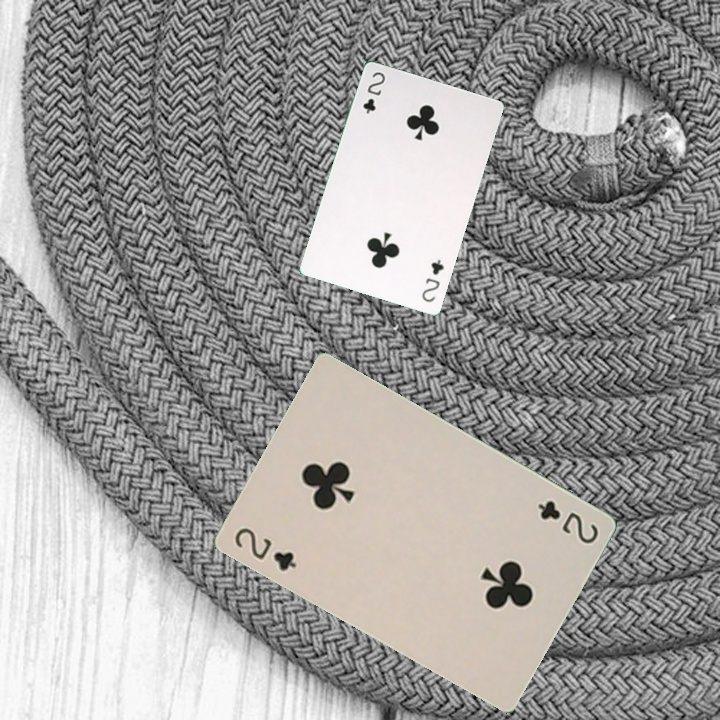2c: (230, 523, 299, 574), (533, 496, 601, 547), (359, 67, 388, 117), (418, 255, 446, 305)
